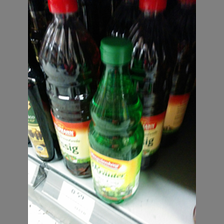vinegar: (42, 1, 98, 184), (89, 38, 144, 207), (130, 1, 167, 175)
